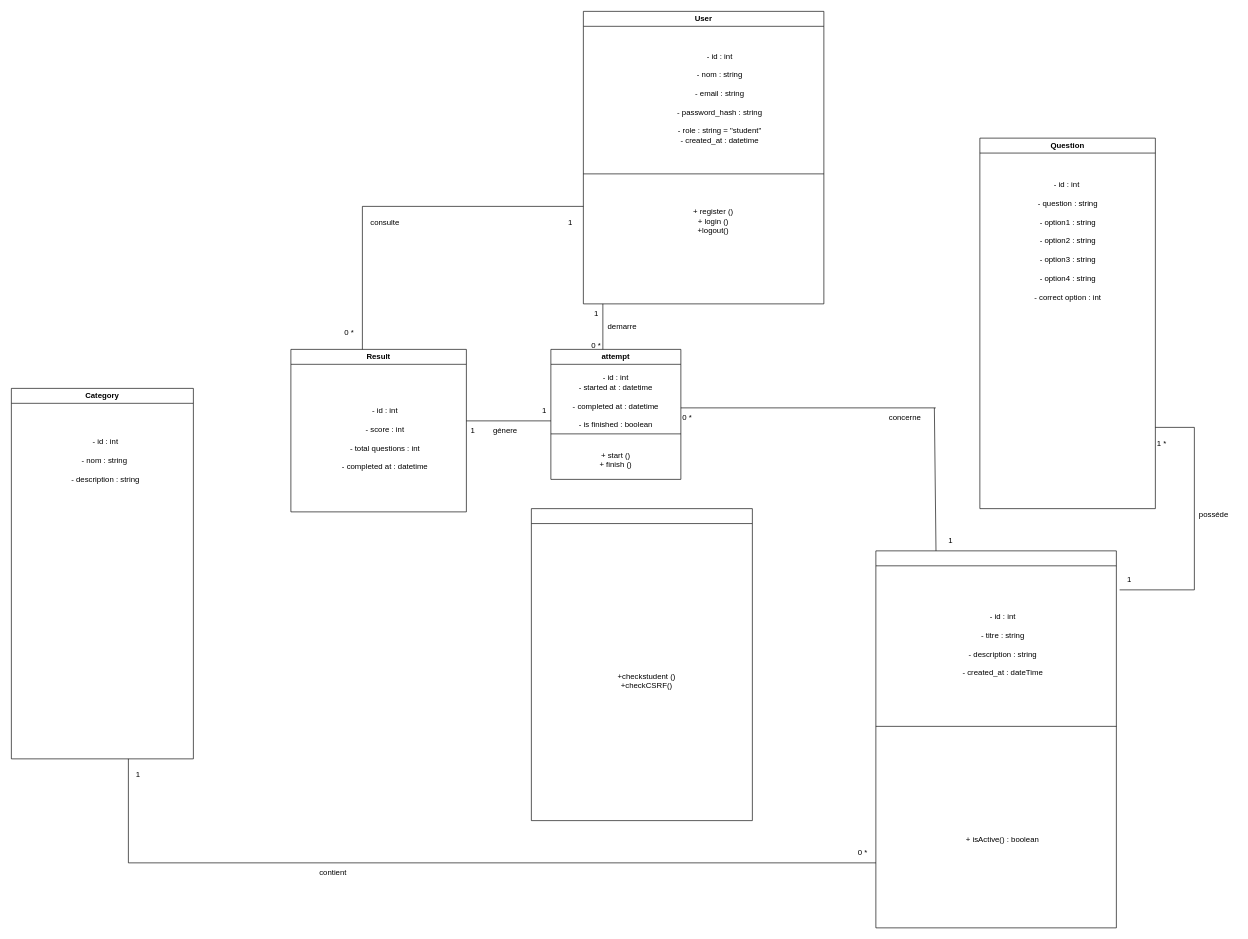
The diagram is 1248 pixels wide and 939 high, and some of its shapes have lost their labels. The shapes that lost their labels are listed below. From the top down, each one's box as (x1, y1, x2, y2) in pixels, then its label:
(531, 508, 752, 821): Security
(875, 550, 1116, 928): Quiz
